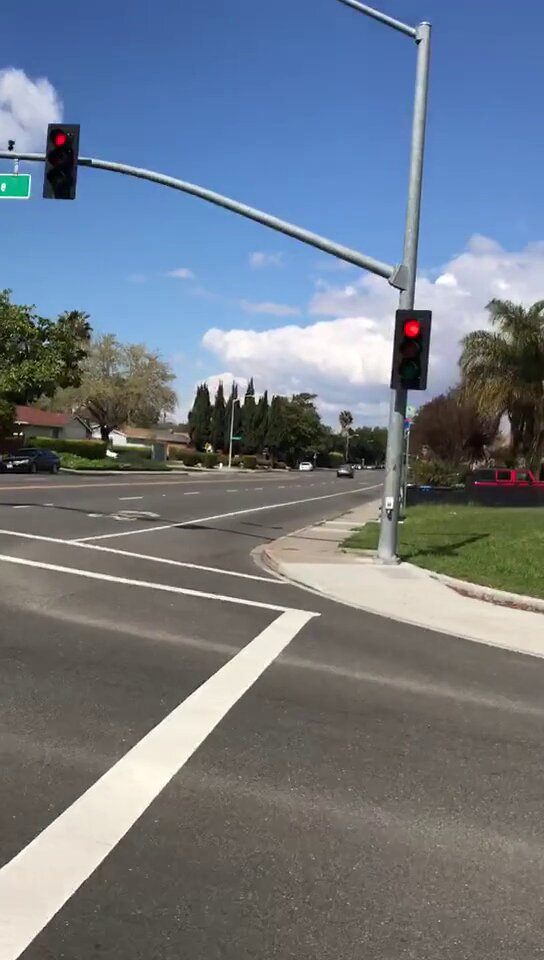red_light: (396, 311, 426, 389), (47, 124, 76, 201)
